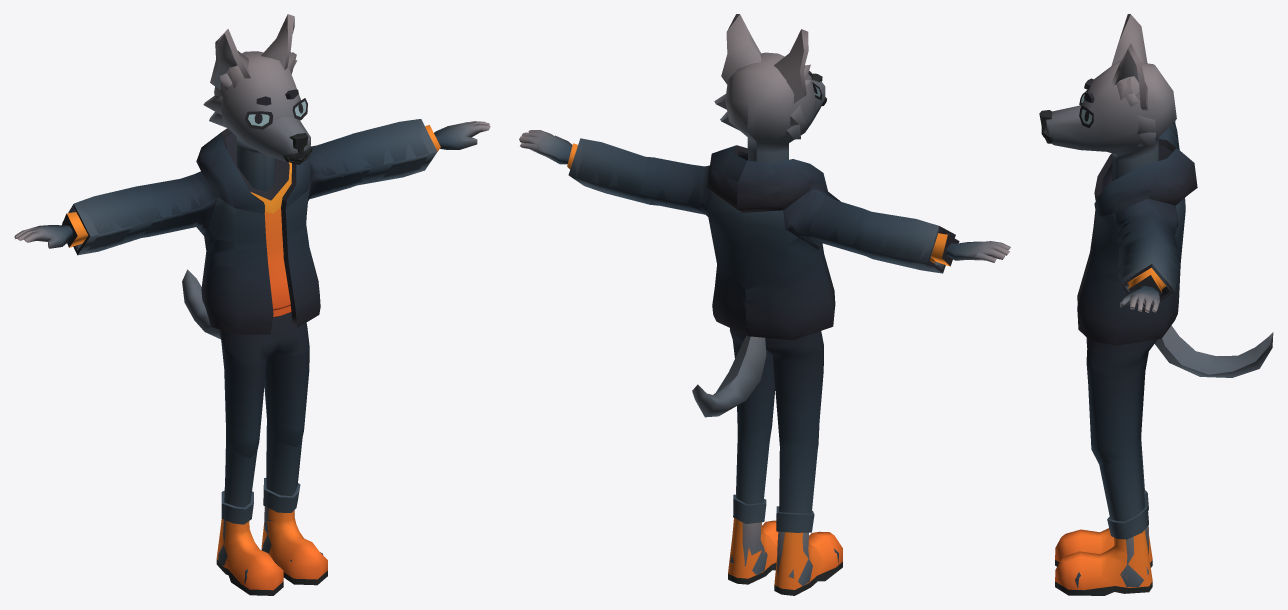
The model's file is doggg.fbx.
3 renders of one model, left to right at view 1: azimuth 30°, elevation 25°; view 2: azimuth 150°, elevation 25°; view 3: azimuth 270°, elevation 25°, orthographic. The views are drawn at different scales.
Visible parts, largest first — view 1: Jacket_normal; view 2: Jacket_normal; view 3: Jacket_normal.
Boxes of the visible parts, x1,y1,x2,y2 form: Jacket_normal: [14, 14, 490, 595]; Jacket_normal: [519, 14, 1010, 595]; Jacket_normal: [1039, 14, 1273, 595].
Size of the model in its own units: 343 by 146 by 377.
Materials: 1 (1 with a texture image).
